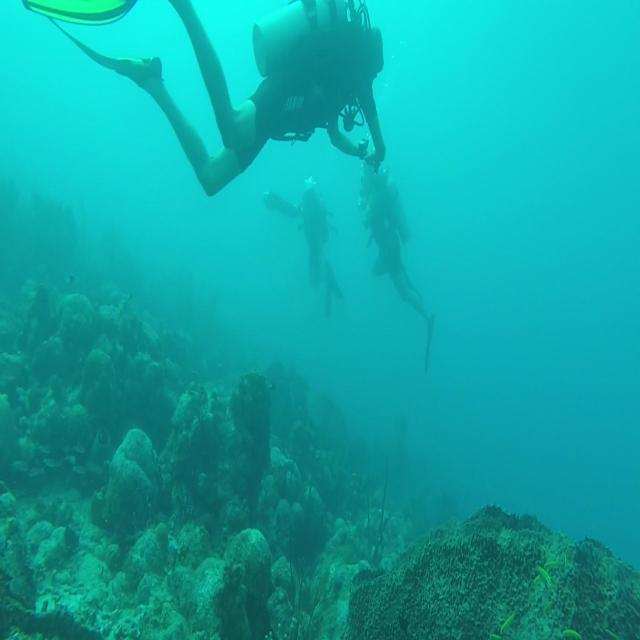human: (24, 0, 387, 197), (358, 154, 436, 374), (262, 176, 344, 320)
